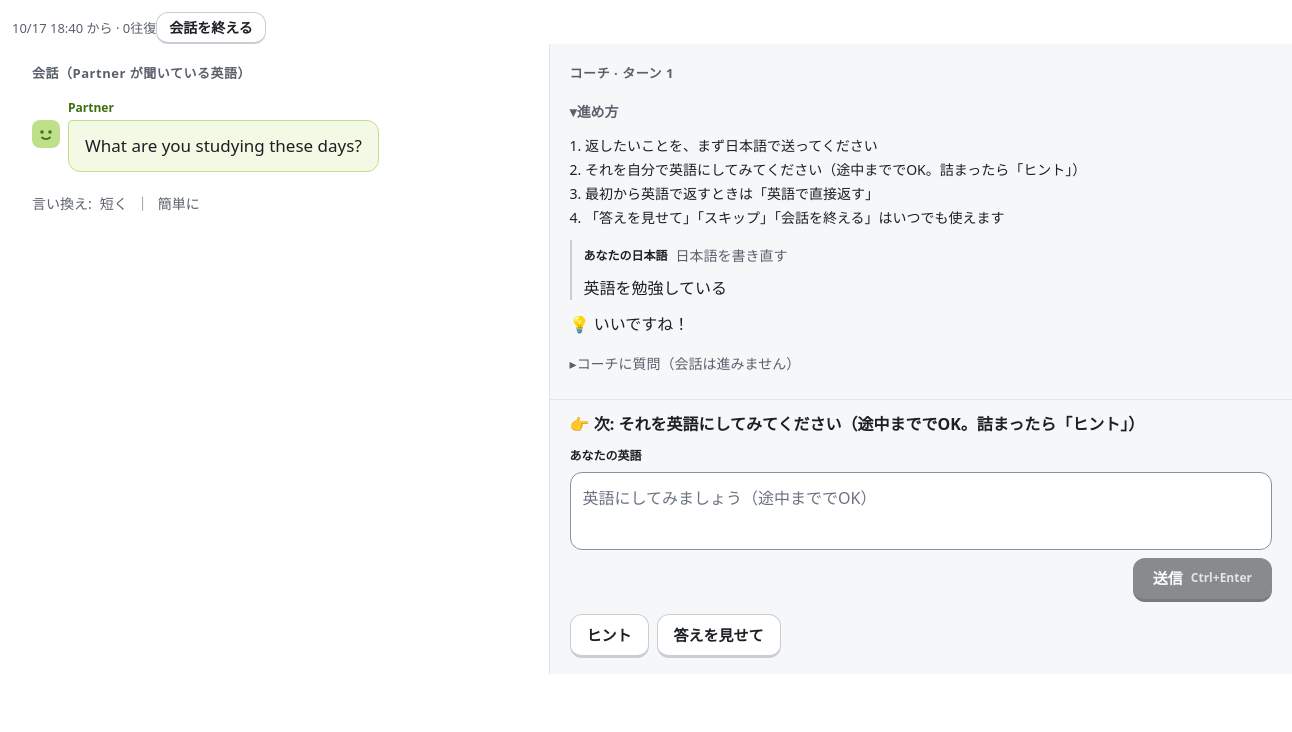
Test case: in-session restate control › sends shorter from the keyboard while preserving the English draft
Type "I study" into the text box labelled "あなたの英語".
click(921, 511); type("I study")  # box top-left (570, 472), bottom-right (1272, 550)
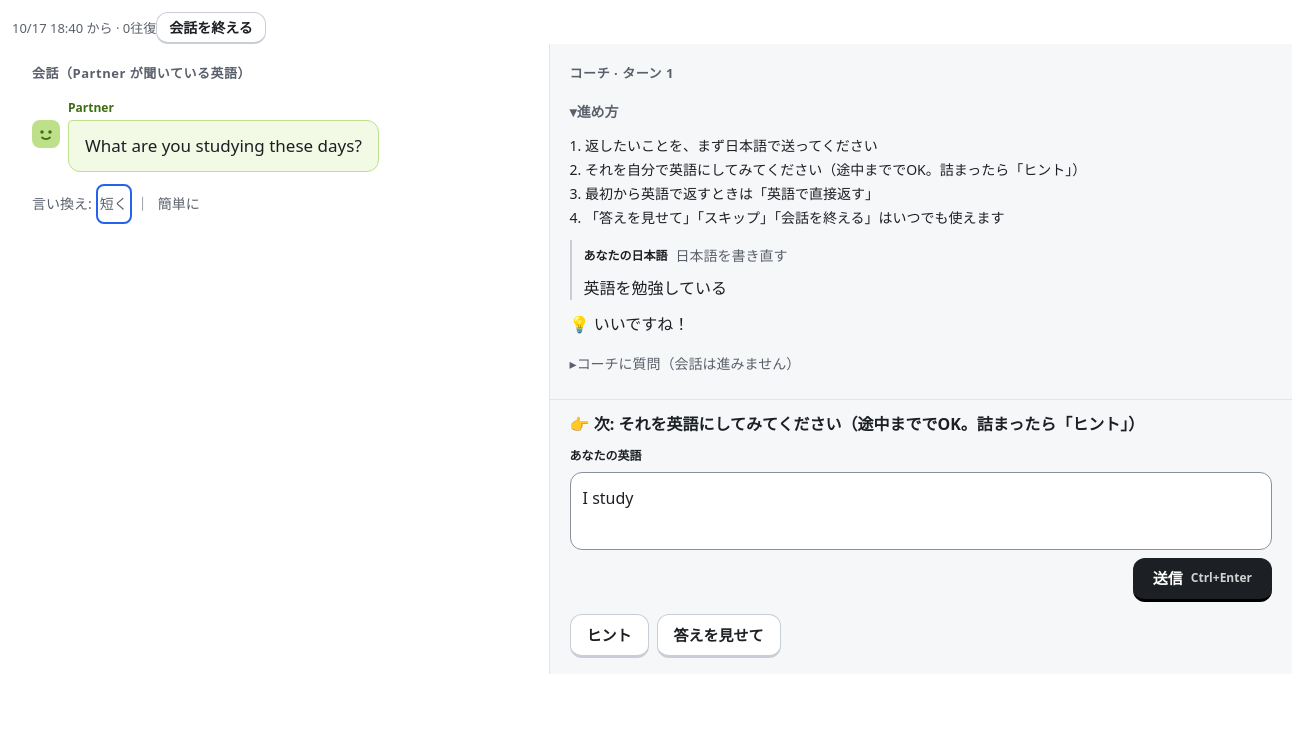
Press Enter
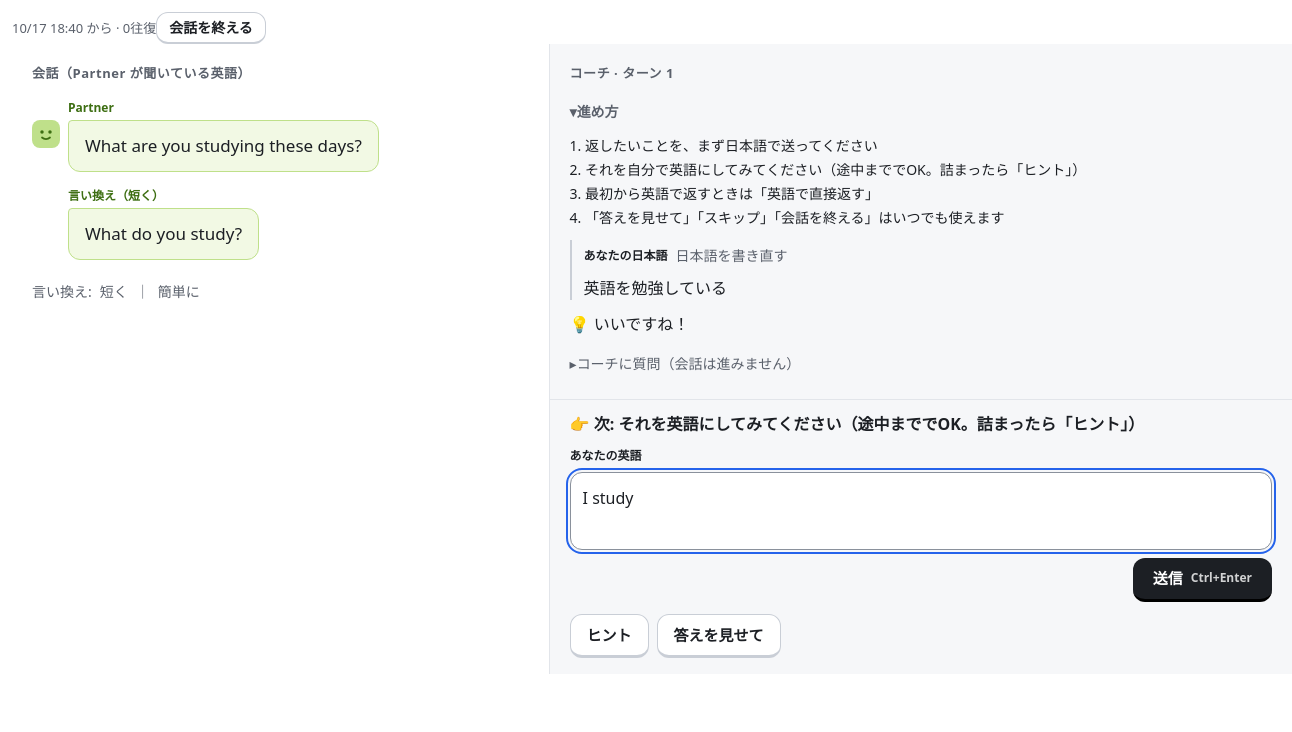
Expected: the text "言い換え（短く）" is shown, top-left (68, 187), bottom-right (164, 204)
